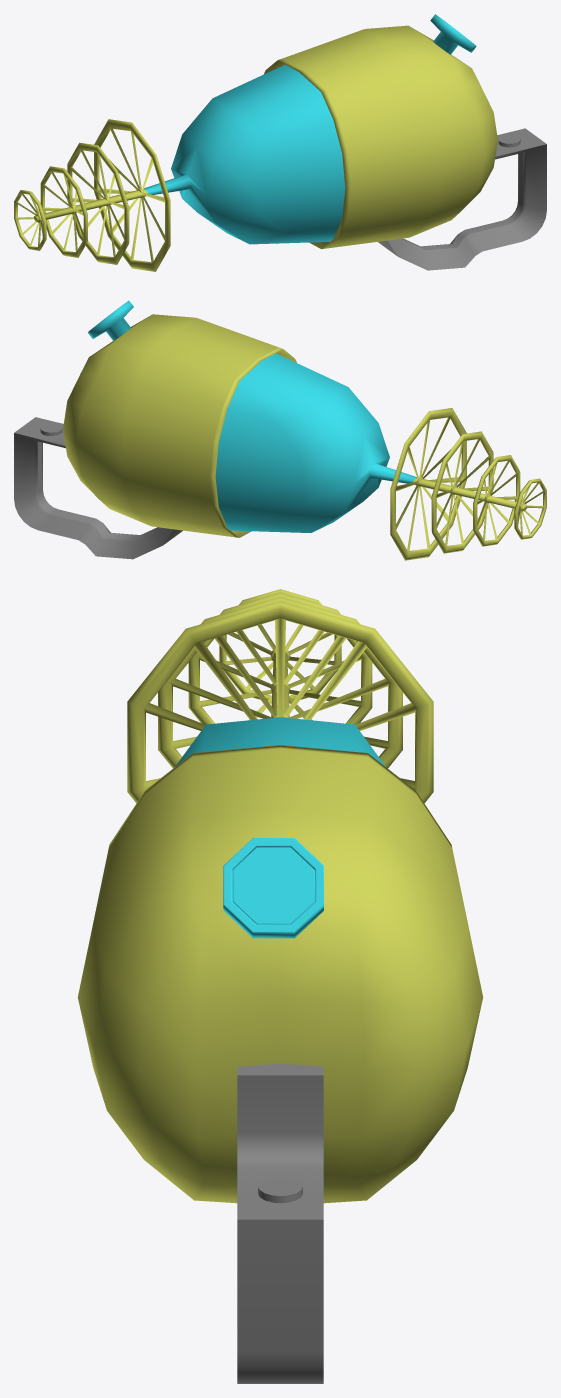
The model's file is TheCleanser.fbx.
The picture shows the model from 3 angles, top to bottom: view 1: azimuth 30°, elevation 25°; view 2: azimuth 150°, elevation 25°; view 3: azimuth 270°, elevation 25°; orthographic projection. The views are drawn at different scales.
Parts seen in each view (by area): view 1: Gun; view 2: Gun; view 3: Gun.
Boxes of the visible parts, left/top/right/bottom form: Gun: left=14, top=14, right=546, bottom=271; Gun: left=14, top=300, right=546, bottom=560; Gun: left=77, top=589, right=483, bottom=1383.
Bounding box in the file's own units: 59.8 × 27.8 × 20.69.
